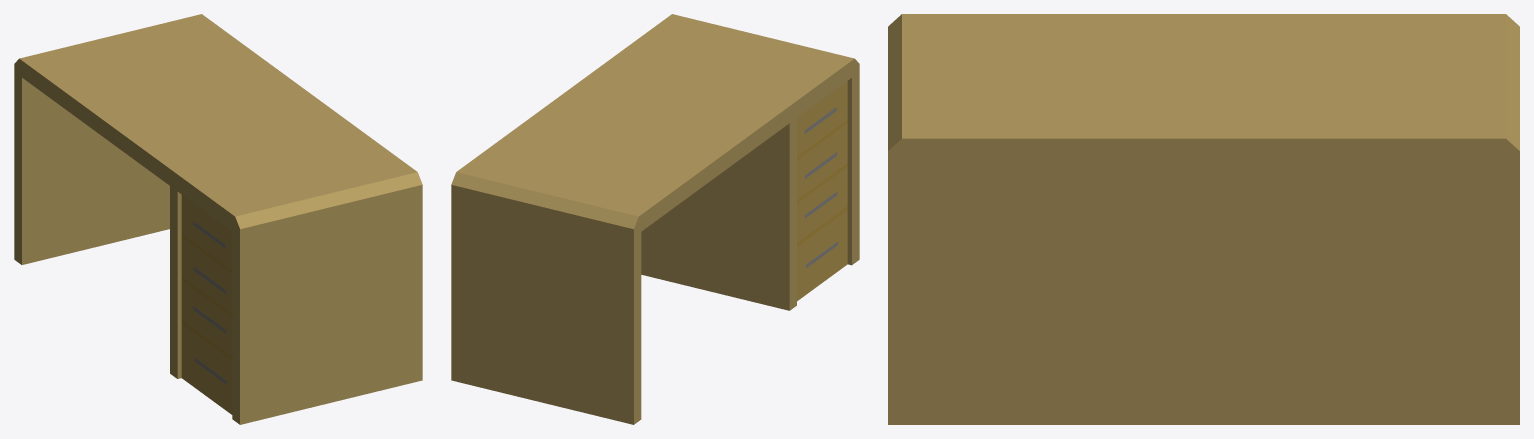
The model's file is MD_Desk.FBX.
The picture shows the model from 3 angles, left to right: view 1: azimuth 30°, elevation 25°; view 2: azimuth 150°, elevation 25°; view 3: azimuth 270°, elevation 25°; orthographic projection. The views are drawn at different scales.
Parts seen in each view (by area): view 1: MD_Desk; view 2: MD_Desk; view 3: MD_Desk.
Part boxes in pixels (x1,y1,x2,y2): MD_Desk: (14, 14, 422, 424); MD_Desk: (451, 14, 859, 424); MD_Desk: (888, 14, 1519, 424).
Size of the model in its own units: 70 by 75 by 150.
Materials: 1 (1 with a texture image).
